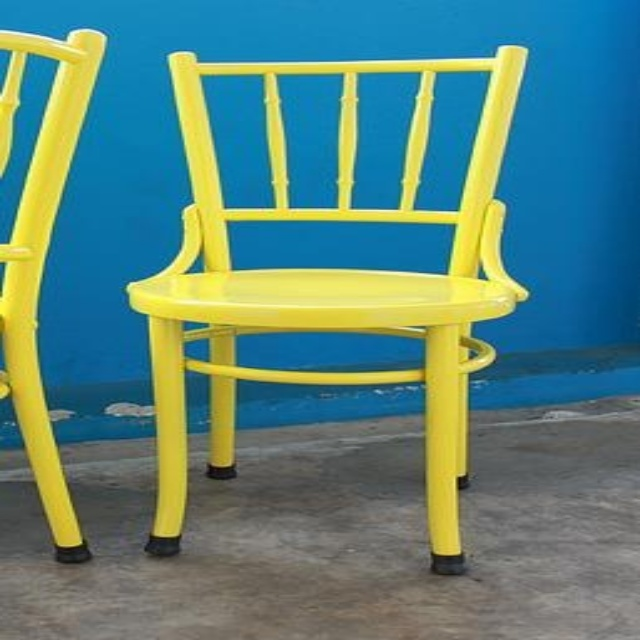obstacle: (127, 45, 525, 574)
